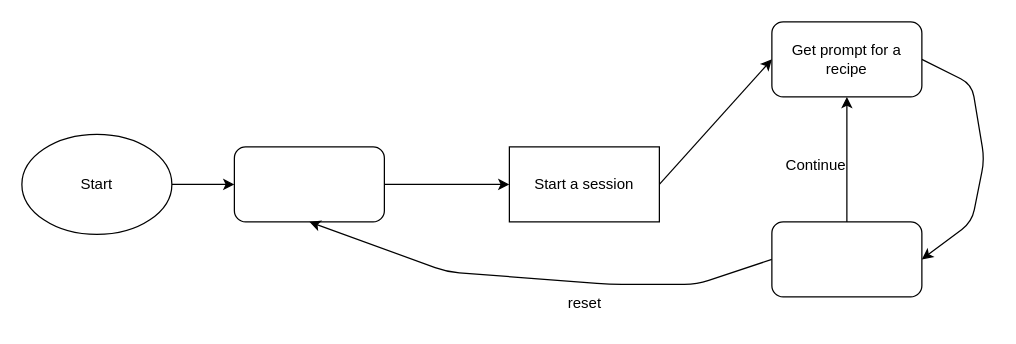
The diagram is 1016 pixels wide and 344 high, and some of its shapes have lost their labels. The shapes that lost their labels are listed below. From the top down, each one's centre as x and y in pixels, then its label:
At point 308,184: "Initialize setings".
At point 846,259: "Get output".
